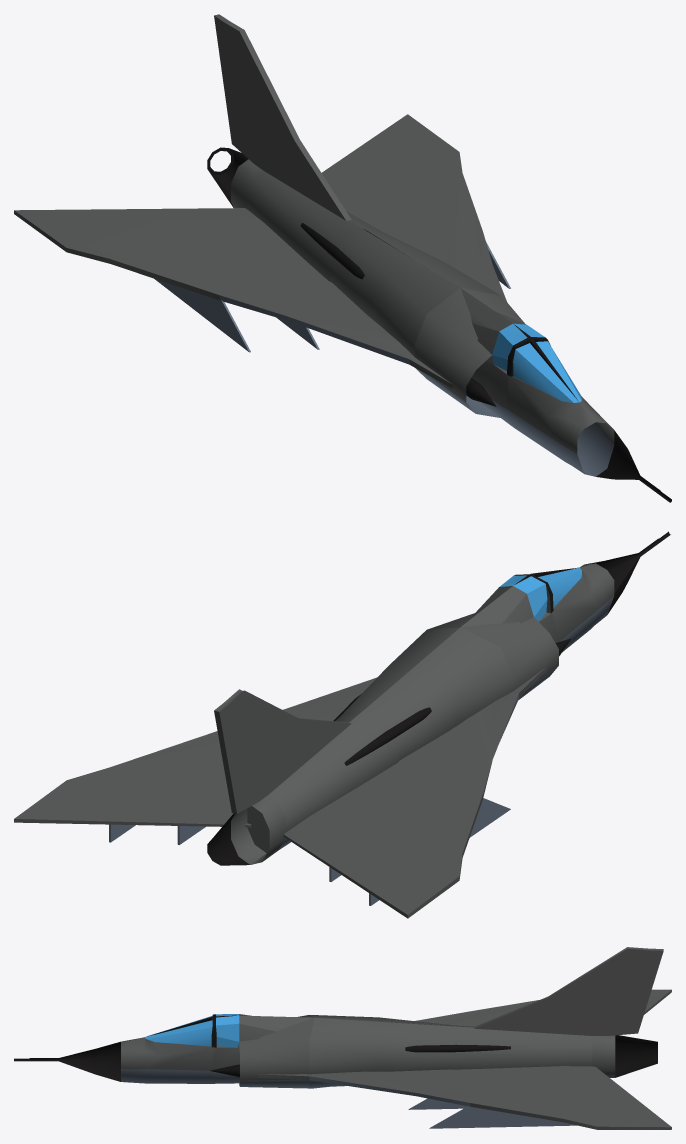
Rendered from Mondeno.glb.
3 views of the same model, one above another, from view 1: azimuth 30°, elevation 25°; view 2: azimuth 150°, elevation 25°; view 3: azimuth 270°, elevation 25° (orthographic). The views are drawn at different scales.
Visible parts, largest first — view 1: Airframe; view 2: Airframe; view 3: Airframe.
Boxes of the visible parts, box(x1,y1,x2,y2) form: Airframe: box(14, 14, 671, 502); Airframe: box(14, 531, 670, 918); Airframe: box(14, 947, 671, 1129).
Bounding box in the file's own units: 8.62 × 4.11 × 17.44.
